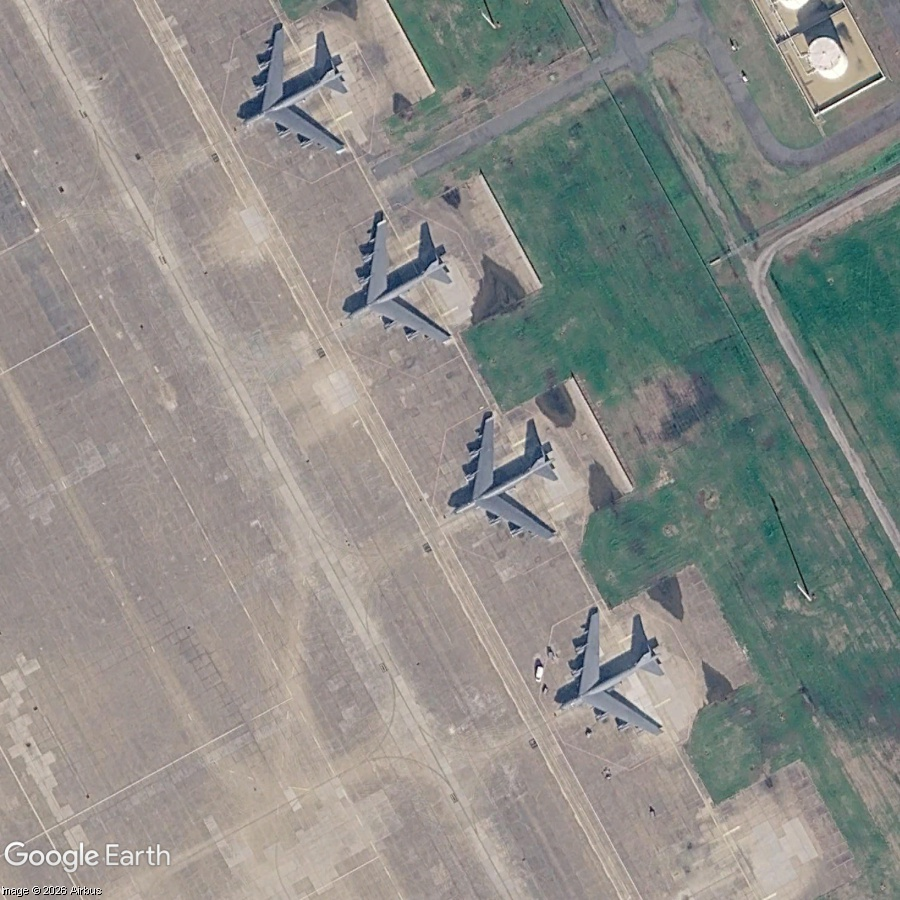Máy bay ném bom: (205, 4, 381, 190), (308, 196, 484, 381), (416, 393, 591, 578), (523, 590, 697, 774)
